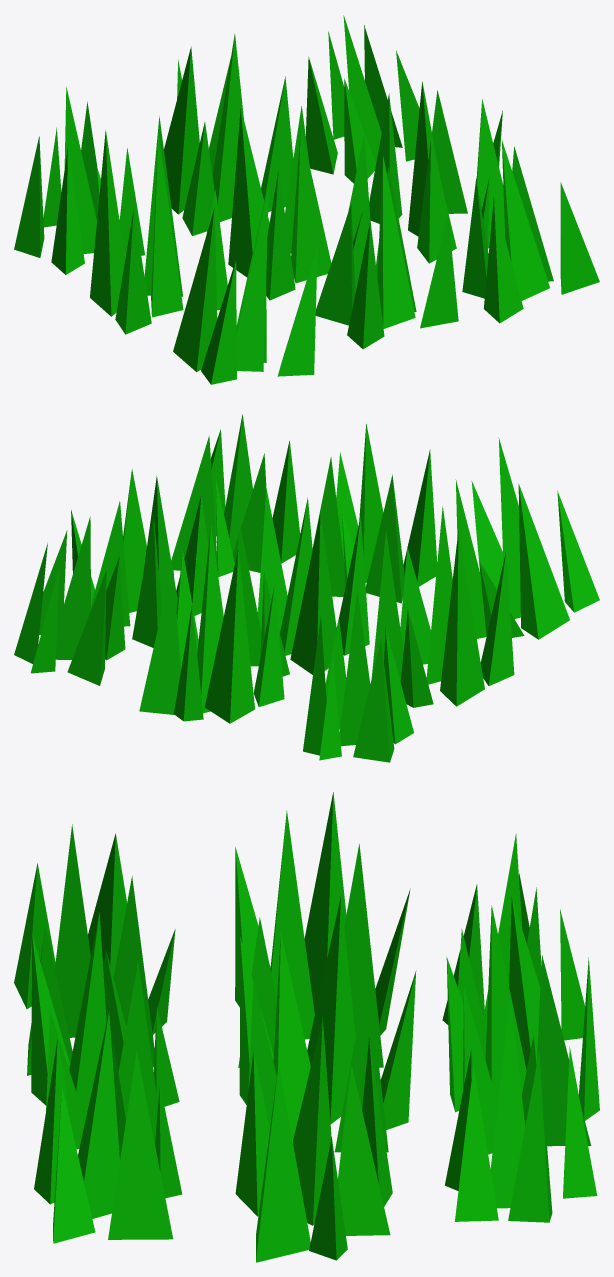
File: uploads_files_3639591_Grass.obj
3 views of the same model, one above another, from view 1: azimuth 30°, elevation 25°; view 2: azimuth 150°, elevation 25°; view 3: azimuth 270°, elevation 25° (orthographic). The views are drawn at different scales.
Visible parts, largest first — view 1: Grass_08_Cone.007, Grass_02_Cone.001, Grass_05_Cone.004, Grass_06_Cone.005, Grass_09_Cone.008, Grass_01_Cone, Grass_04_Cone.003, Grass_03_Cone.002, Grass_07_Cone.006; view 2: Grass_09_Cone.008, Grass_05_Cone.004, Grass_08_Cone.007, Grass_01_Cone, Grass_03_Cone.002, Grass_07_Cone.006, Grass_02_Cone.001, Grass_06_Cone.005, Grass_04_Cone.003; view 3: Grass_04_Cone.003, Grass_06_Cone.005, Grass_01_Cone, Grass_05_Cone.004, Grass_09_Cone.008, Grass_07_Cone.006, Grass_08_Cone.007, Grass_02_Cone.001, Grass_03_Cone.002.
Part boxes in pixels (<box>): Grass_08_Cone.007: <box>173,186,317,384</box>; Grass_02_Cone.001: <box>315,155,458,349</box>; Grass_05_Cone.004: <box>90,116,227,334</box>; Grass_06_Cone.005: <box>462,140,599,323</box>; Grass_09_Cone.008: <box>164,33,293,235</box>; Grass_01_Cone: <box>228,106,370,300</box>; Grass_04_Cone.003: <box>369,81,504,263</box>; Grass_03_Cone.002: <box>14,87,144,274</box>; Grass_07_Cone.006: <box>305,15,419,183</box>; Grass_09_Cone.008: <box>139,524,284,723</box>; Grass_05_Cone.004: <box>371,506,514,707</box>; Grass_08_Cone.007: <box>455,437,599,639</box>; Grass_01_Cone: <box>238,488,369,676</box>; Grass_03_Cone.002: <box>303,590,413,762</box>; Grass_07_Cone.006: <box>14,516,125,685</box>; Grass_02_Cone.001: <box>312,424,437,603</box>; Grass_06_Cone.005: <box>171,414,300,577</box>; Grass_04_Cone.003: <box>71,469,208,647</box>; Grass_04_Cone.003: <box>235,1018,392,1262</box>; Grass_06_Cone.005: <box>34,1011,182,1243</box>; Grass_01_Cone: <box>239,895,416,1152</box>; Grass_05_Cone.004: <box>235,792,410,1067</box>; Grass_09_Cone.008: <box>446,896,599,1154</box>; Grass_07_Cone.006: <box>445,997,597,1222</box>; Grass_08_Cone.007: <box>14,824,175,1075</box>; Grass_02_Cone.001: <box>31,912,179,1149</box>; Grass_03_Cone.002: <box>442,833,584,1060</box>.
Size of the model in its own units: 5.32 by 2.31 by 5.07.
